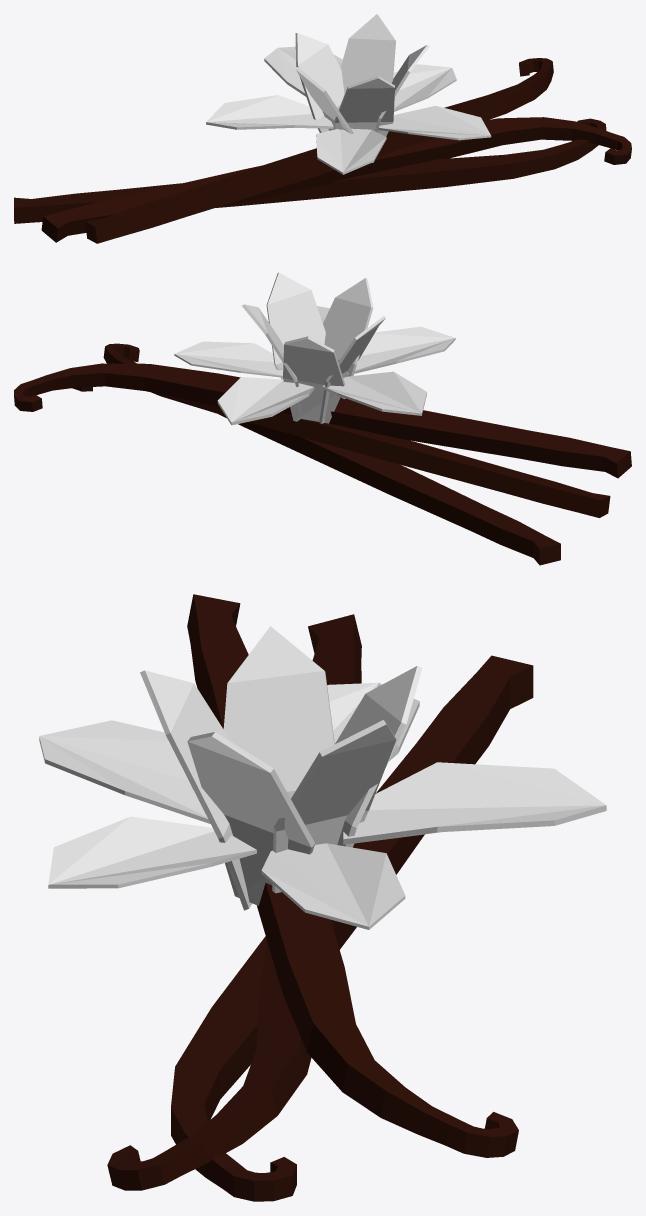
The model's file is vanilla_bean.fbx.
The picture shows the model from 3 angles, top to bottom: view 1: azimuth 30°, elevation 25°; view 2: azimuth 150°, elevation 25°; view 3: azimuth 270°, elevation 25°; orthographic projection. The views are drawn at different scales.
Visible parts, largest first — view 1: Petals, Bean.001, Bean, Bean.002, Petals.001; view 2: Bean.001, Petals, Petals.001, Bean, Bean.002; view 3: Petals, Petals.001, Bean.001, Bean.002, Bean.
Part boxes in pixels (x1=…): Petals: x1=206, y1=46, x2=491, y2=174; Bean.001: x1=85, y1=58, x2=553, y2=243; Bean: x1=41, y1=117, x2=631, y2=242; Bean.002: x1=14, y1=118, x2=606, y2=223; Petals.001: x1=295, y1=14, x2=429, y2=162; Bean.001: x1=14, y1=363, x2=631, y2=478; Petals: x1=174, y1=306, x2=455, y2=425; Petals.001: x1=242, y1=272, x2=385, y2=423; Bean: x1=103, y1=343, x2=610, y2=517; Bean.002: x1=72, y1=387, x2=560, y2=565; Petals: x1=39, y1=682, x2=606, y2=929; Petals.001: x1=140, y1=626, x2=422, y2=910; Bean.001: x1=187, y1=594, x2=518, y2=1157; Bean.002: x1=171, y1=655, x2=533, y2=1201; Bean: x1=107, y1=614, x2=361, y2=1190.
Size of the model in its own units: 19.44 by 5.1 by 8.87.
